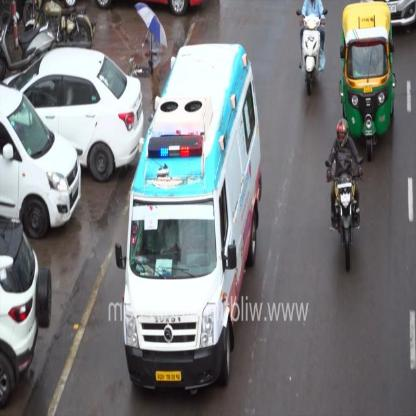auto-rikshaw: (340, 0, 396, 160)
bike: (326, 158, 364, 272), (296, 6, 328, 96)
car: (115, 40, 263, 396), (17, 45, 145, 184), (2, 82, 82, 240), (1, 214, 53, 408), (384, 1, 416, 33)
